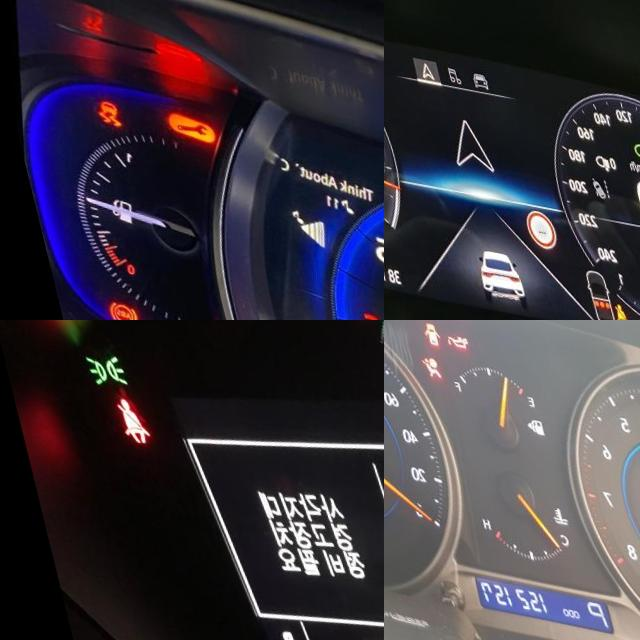Doors: (412, 320, 433, 336)
Low beam: (618, 121, 640, 143)
SideLamp: (76, 344, 123, 387)
